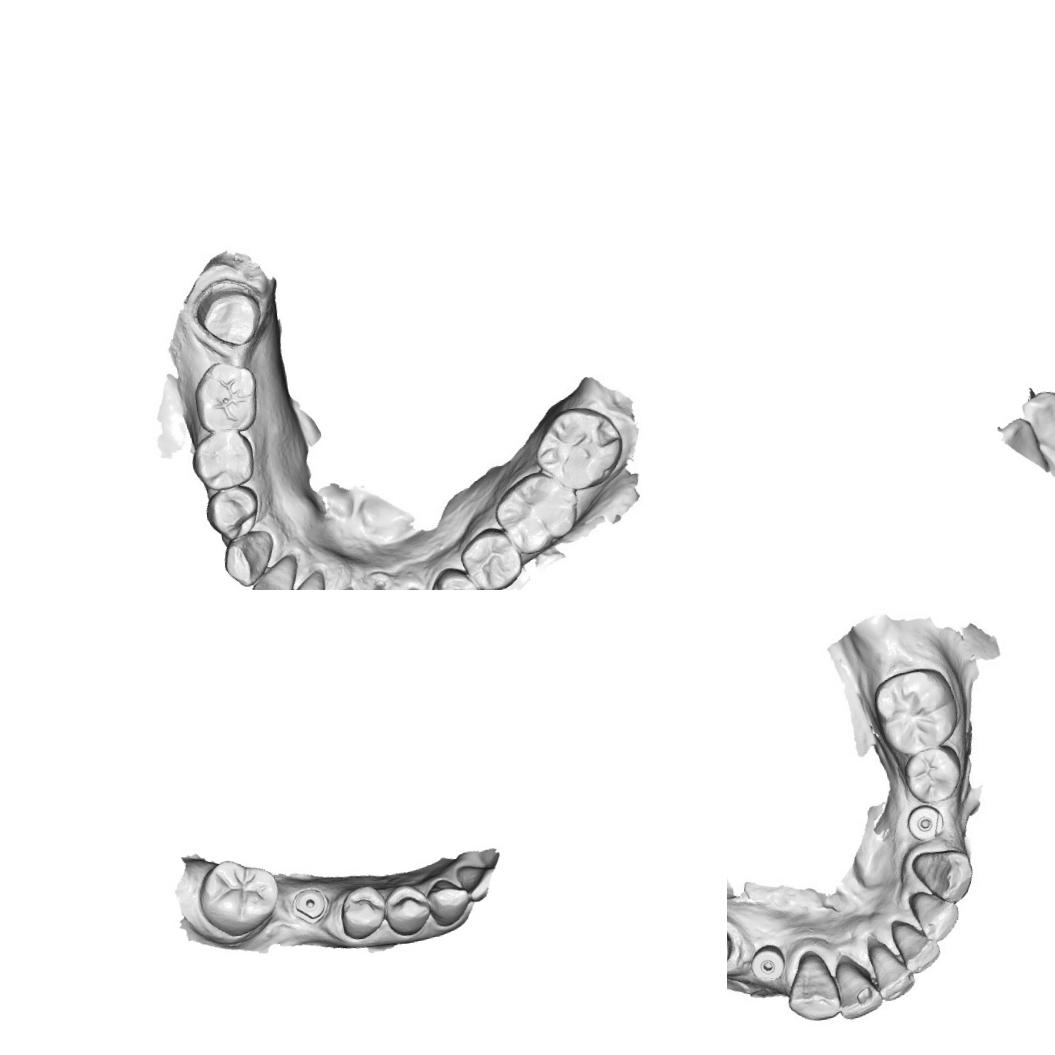canine: (782, 949, 842, 1031), (906, 843, 978, 910), (215, 526, 277, 590), (1018, 387, 1055, 454), (425, 876, 472, 928)
crown: (194, 279, 269, 352), (727, 926, 735, 972)
implant: (288, 885, 331, 927), (904, 801, 943, 840), (750, 944, 786, 986)
incisor: (829, 958, 885, 1024), (868, 936, 919, 1000), (912, 890, 964, 948), (892, 916, 942, 976), (454, 862, 500, 905), (247, 561, 298, 590)
molar: (532, 399, 632, 492), (490, 468, 580, 560), (868, 668, 964, 754), (194, 853, 284, 941), (188, 358, 264, 438)
premolar: (457, 526, 527, 590), (192, 427, 256, 488), (903, 746, 964, 807), (336, 882, 390, 942), (206, 486, 263, 540), (381, 881, 434, 938), (425, 565, 484, 590)
